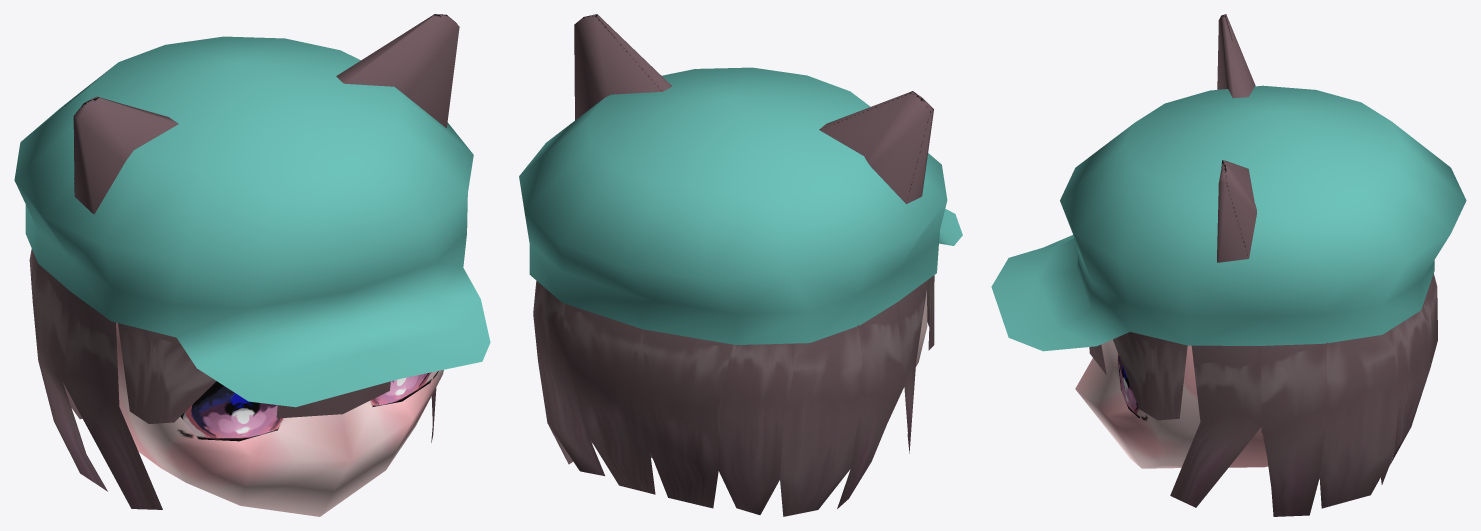
File: head.obj
3 renders of one model, left to right at view 1: azimuth 30°, elevation 25°; view 2: azimuth 150°, elevation 25°; view 3: azimuth 270°, elevation 25°, orthographic. The views are drawn at different scales.
Visible parts, largest first — view 1: head.001; view 2: head.001; view 3: head.001.
Boxes of the visible parts, x1,y1,x2,y2 form: head.001: (14,14,490,516); head.001: (519,14,962,516); head.001: (991,14,1466,516).
Bounding box in the file's own units: 0.6312 × 0.6397 × 0.7374.
Materials: 1 (1 with a texture image).
